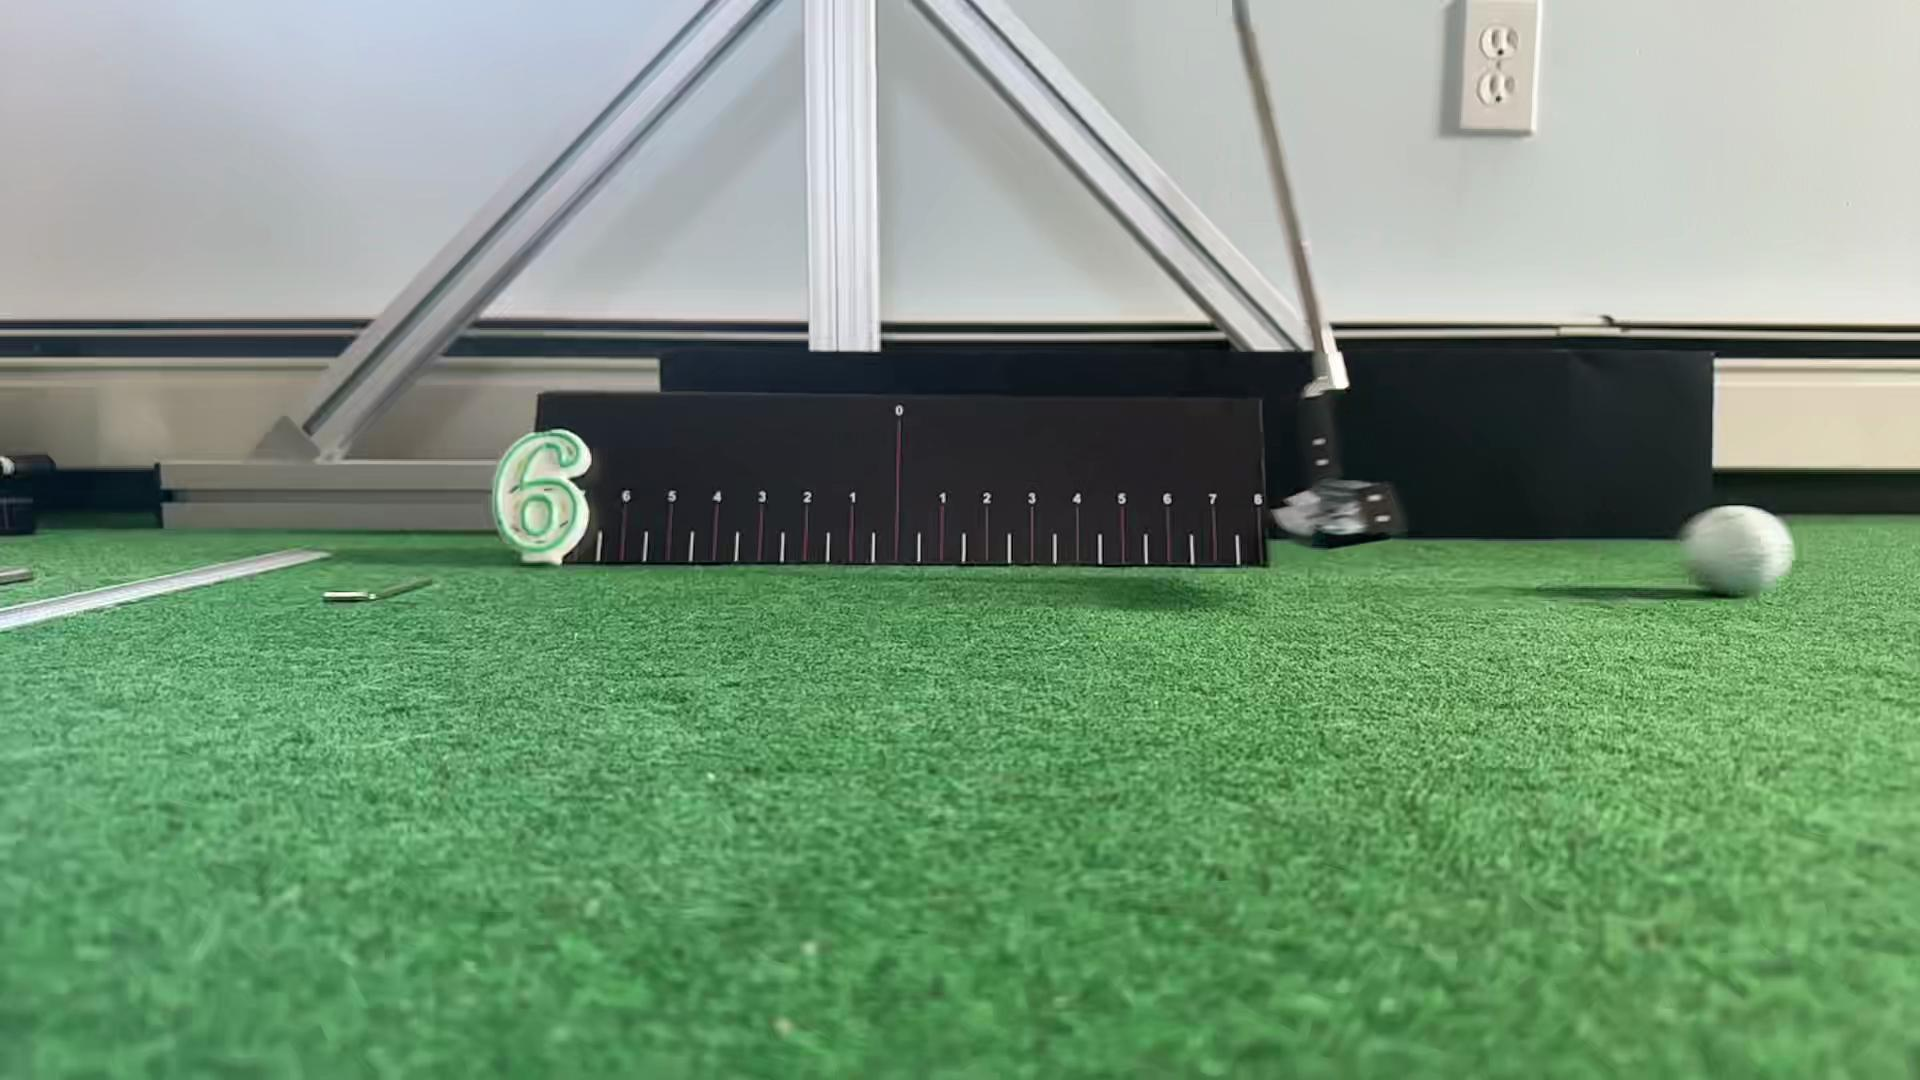golfball: (1681, 506, 1794, 598)
